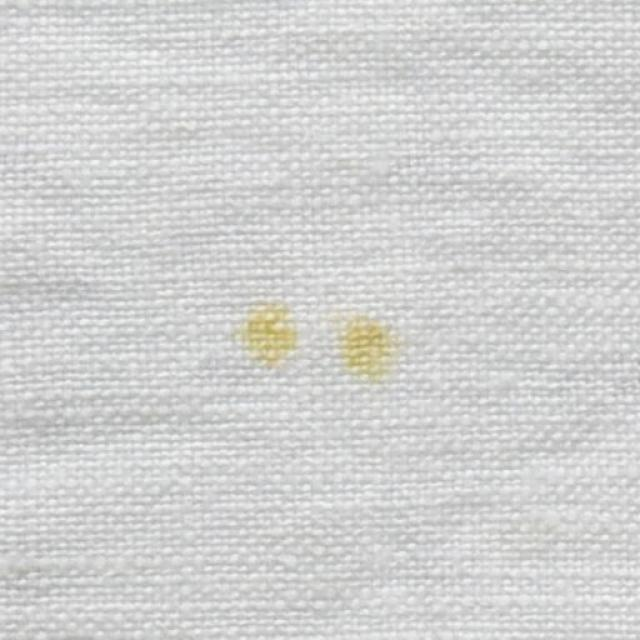Stain: (246, 311, 295, 362), (344, 326, 393, 374)
